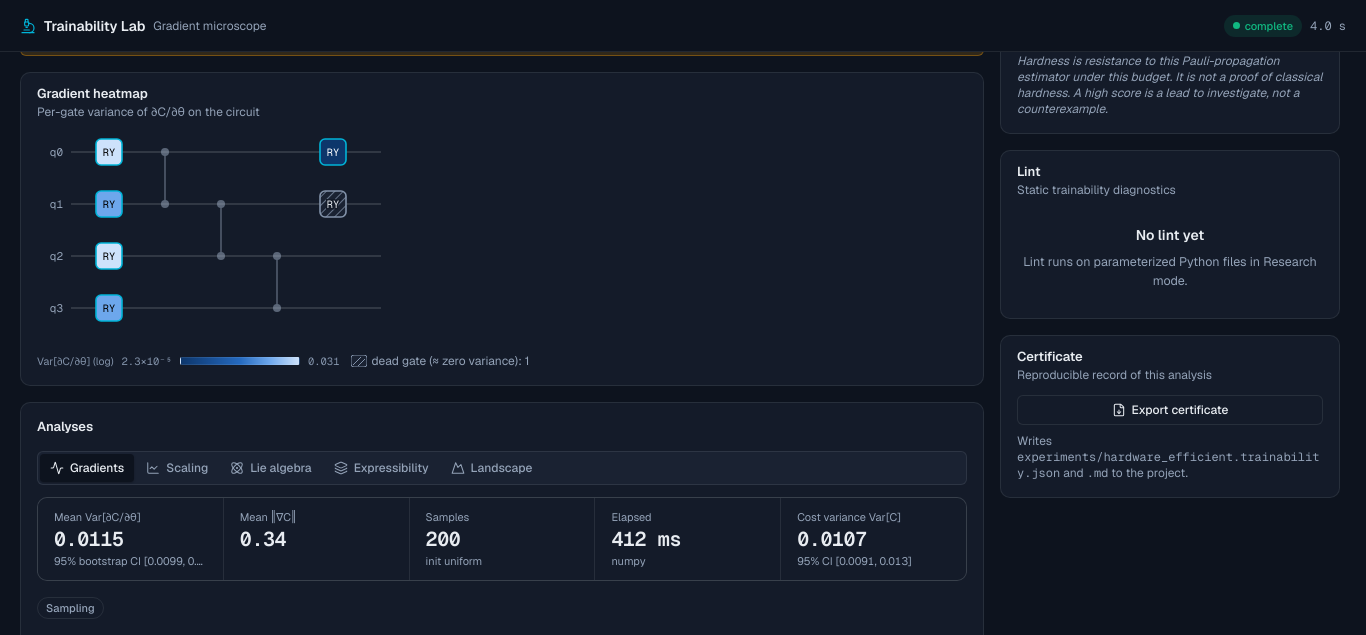
Test: Verdict rail interactions › exports the certificate through the bridge
The image size is (1366, 635).
(page scrolled)
Click the button "Export certificate" at coordinates (1170, 410), box x1=1017 y1=395 x2=1323 y2=425
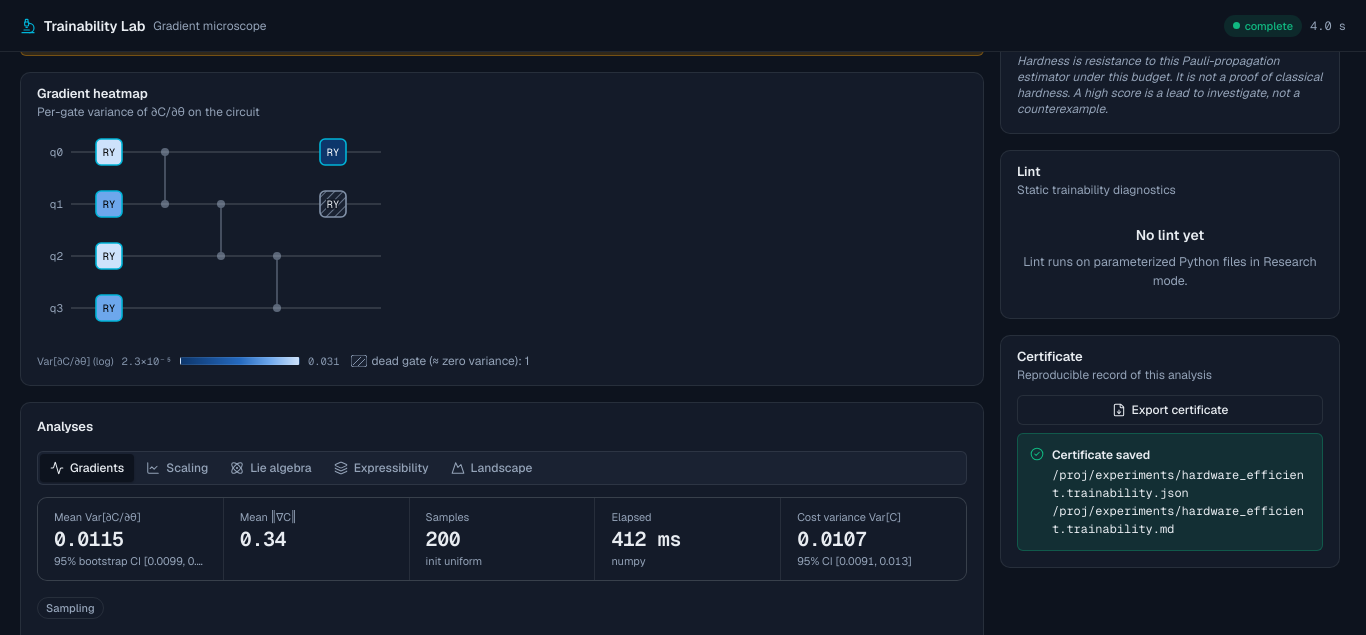
Expected: the text "Certificate saved" is shown, x1=1052 y1=447 x2=1150 y2=463
